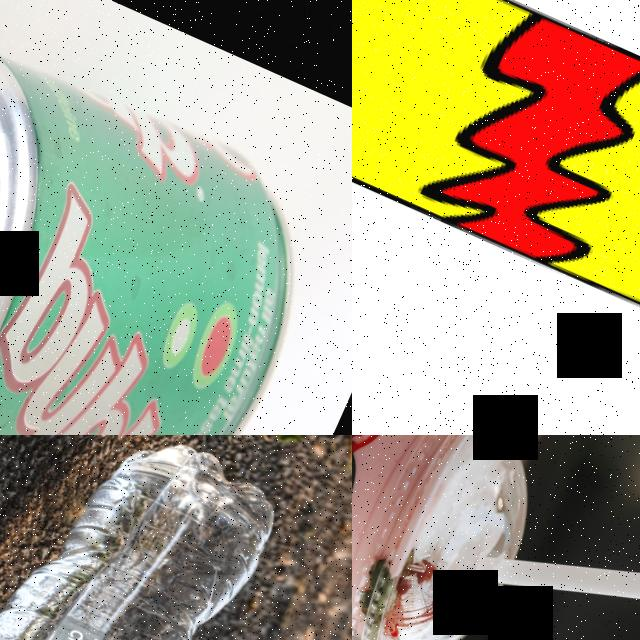bottle: (0, 435, 293, 640)
can: (0, 0, 352, 435)
cup: (352, 435, 572, 640)
